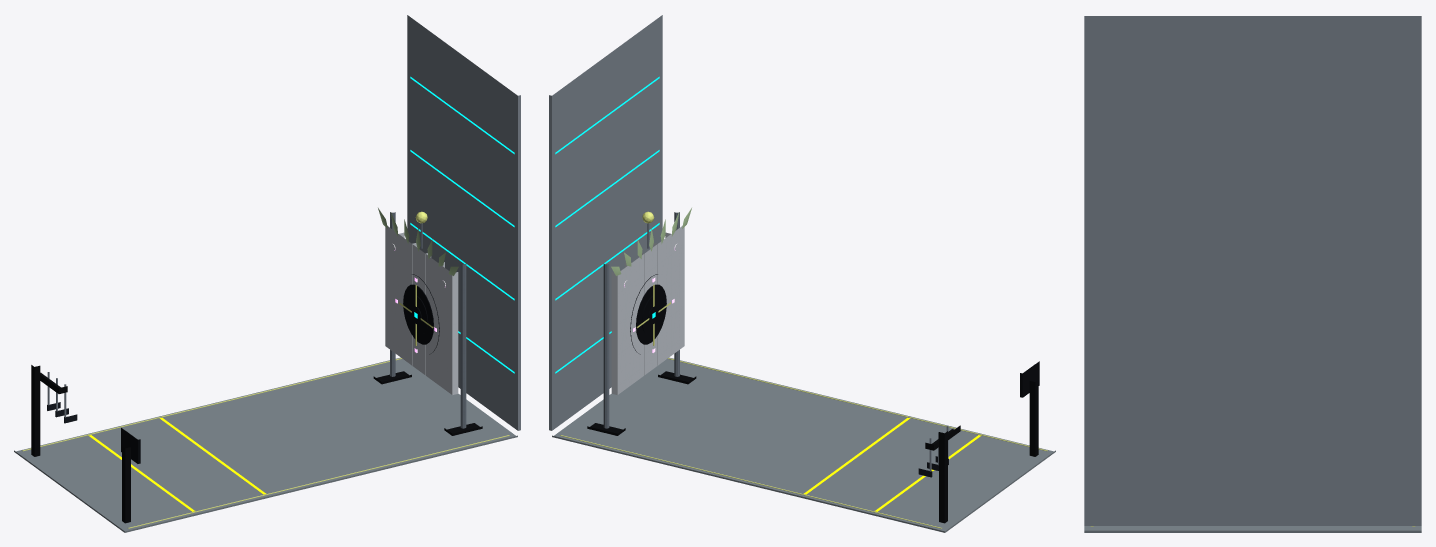
File: tt_axe_bay.glb
3 renders of one model, left to right at view 1: azimuth 30°, elevation 25°; view 2: azimuth 150°, elevation 25°; view 3: azimuth 270°, elevation 25°, orthographic. The views are drawn at different scales.
Visible parts, largest first — view 1: Floor_Mat, Wall_Lining, Target_Boards, Target_Rings, Target_Posts, Court_Inlay, Lining_Reveal, Rack_Post, Throw_Lines, Tablet_Post; view 2: Floor_Mat, Wall_Lining, Target_Boards, Target_Rings, Target_Posts, Court_Inlay, Lining_Reveal, Rack_Post, Tablet_Post, Throw_Lines; view 3: Wall_Lining, Floor_Mat.
Boxes of the visible parts, <box> form: Floor_Mat: <box>14,357,517,532</box>; Wall_Lining: <box>407,15,520,430</box>; Target_Boards: <box>385,226,458,394</box>; Target_Rings: <box>403,274,439,354</box>; Target_Posts: <box>390,212,466,428</box>; Court_Inlay: <box>22,358,509,528</box>; Lining_Reveal: <box>410,76,514,373</box>; Rack_Post: <box>31,365,40,456</box>; Throw_Lines: <box>88,417,266,511</box>; Tablet_Post: <box>122,446,130,523</box>; Floor_Mat: <box>552,357,1055,532</box>; Wall_Lining: <box>549,15,662,430</box>; Target_Boards: <box>611,226,684,394</box>; Target_Rings: <box>630,274,666,354</box>; Target_Posts: <box>603,212,679,428</box>; Court_Inlay: <box>560,358,1047,528</box>; Lining_Reveal: <box>555,76,659,373</box>; Rack_Post: <box>939,431,947,523</box>; Tablet_Post: <box>1029,380,1038,456</box>; Throw_Lines: <box>803,417,981,511</box>; Wall_Lining: <box>1084,16,1421,525</box>; Floor_Mat: <box>1084,526,1421,532</box>.
Size of what is drawn, in the model's own units: 6.8 by 5.6 by 3.3.
Materials: 13 (6 with a texture image).
